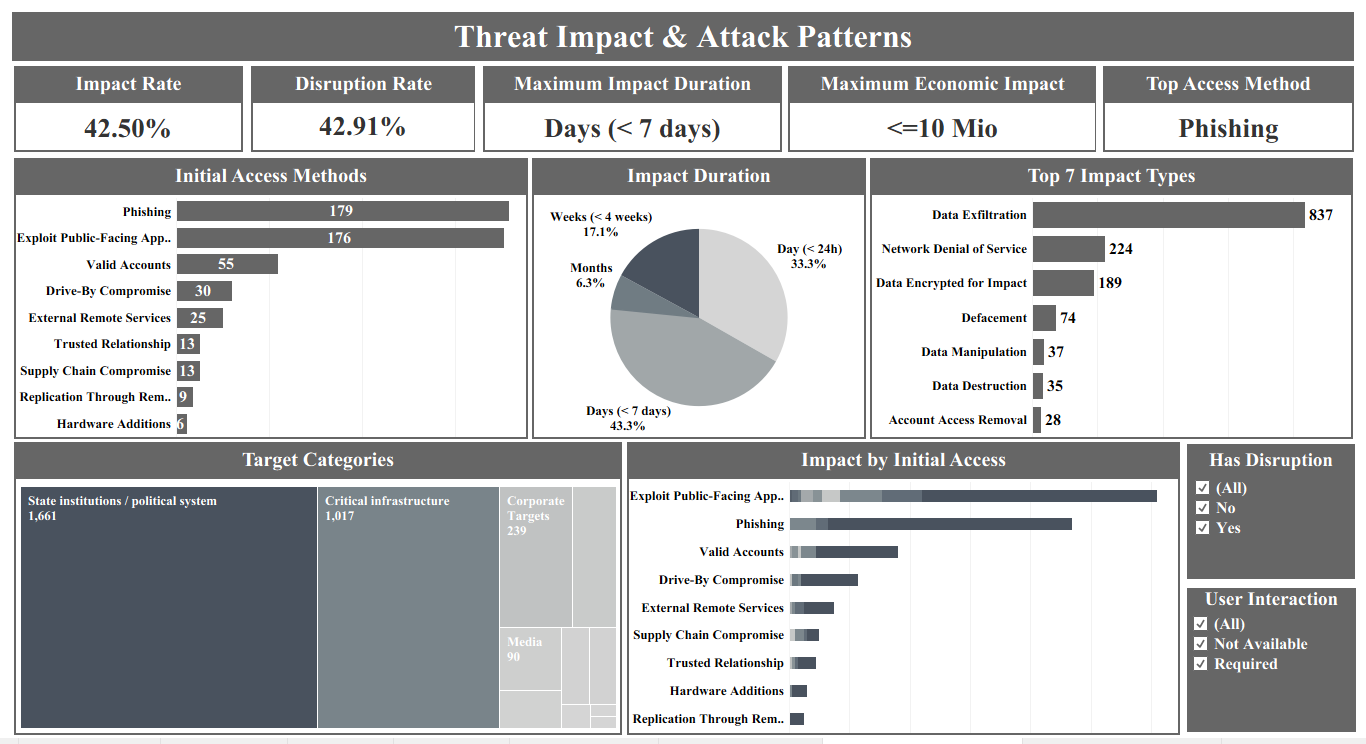

This screenshot's page, from the dashboard's own definition file:
{"tool":"tableau","page":{"name":"Threat Impact & Attack Patterns","canvas":[1000,1000],"units":"permille","ordinal":2},"visuals":[{"type":"title","box":[6.9,13.7,986.1,97.6]},{"type":"worksheet","title":"Impact Rate","mark":"Automatic","box":[10.4,89,168,116.4]},{"type":"worksheet","title":"Disruption Rate","mark":"Automatic","box":[183.6,89,164.5,116.4]},{"type":"worksheet","title":"Maximum Impact Duration","mark":"Text","box":[353.2,89,219.1,116.4]},{"type":"worksheet","title":"Maximum Economic Impact","mark":"Automatic","box":[576.6,89,226,116.4]},{"type":"worksheet","title":"Top Access Method","mark":"Automatic","box":[807.8,89,183.6,116.4]},{"type":"worksheet","title":"Initial Access Methods","mark":"Automatic","rows":["mitre_initial_access"],"cols":["Calculation_1043486564212738"],"box":[10.4,214,376.6,380.1]},{"type":"worksheet","title":"Impact Duration","mark":"Pie","box":[389.6,214,244.2,380.1]},{"type":"worksheet","title":"Top 7 Impact Types","mark":"Automatic","rows":["mitre_impact"],"cols":["Calculation_1043486564212738"],"box":[637.2,214,353.2,380.1]},{"type":"worksheet","title":"Target Categories","mark":"Square","box":[10.4,599.3,445,397.3]},{"type":"worksheet","title":"Impact by Initial Access","mark":"Bar","rows":["mitre_initial_access"],"cols":["Calculation_1043486564212738"],"box":[458.9,599.3,405.2,397.3]},{"type":"filter","title":"Impact by Initial Access","param":"[federated.1rhoq5h1kn2pcd1e7mdtw0kdlvm1].[none:has_disruption:nk]","box":[869.3,601,122.9,183.2]},{"type":"filter","title":"Impact by Initial Access","param":"[federated.1rhoq5h1kn2pcd1e7mdtw0kdlvm1].[none:user_interaction:nk]","box":[869.3,796.2,123.8,195.2]}]}

Visuals, with their boxes on the dashboard's canvas, which has no fixed pixel size, in thousandths of its width and height (x1, y1, x2, y2). These are canvas units, not pixel positions in the 1366x744 screenshot, which may show the page scaled, cropped or inside an application window:
title: region(7, 14, 993, 111)
"Impact Rate" worksheet: region(10, 89, 178, 205)
"Disruption Rate" worksheet: region(184, 89, 348, 205)
"Maximum Impact Duration" worksheet (Text marks): region(353, 89, 572, 205)
"Maximum Economic Impact" worksheet: region(577, 89, 803, 205)
"Top Access Method" worksheet: region(808, 89, 991, 205)
"Initial Access Methods" worksheet: region(10, 214, 387, 594)
"Impact Duration" worksheet (Pie marks): region(390, 214, 634, 594)
"Top 7 Impact Types" worksheet: region(637, 214, 990, 594)
"Target Categories" worksheet (Square marks): region(10, 599, 455, 997)
"Impact by Initial Access" worksheet (Bar marks): region(459, 599, 864, 997)
"Impact by Initial Access" filter: region(869, 601, 992, 784)
"Impact by Initial Access" filter: region(869, 796, 993, 991)
